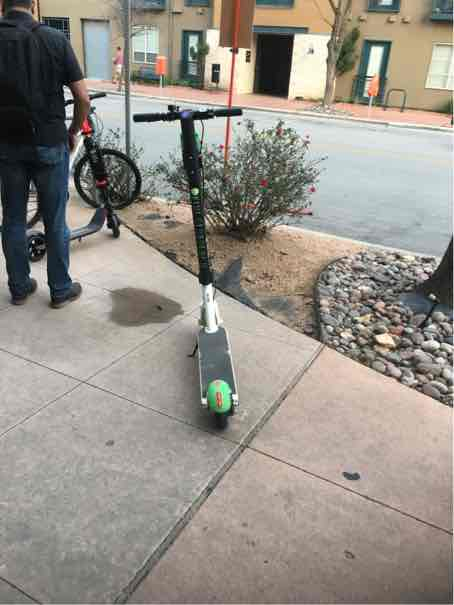scooter: (131, 104, 258, 434)
